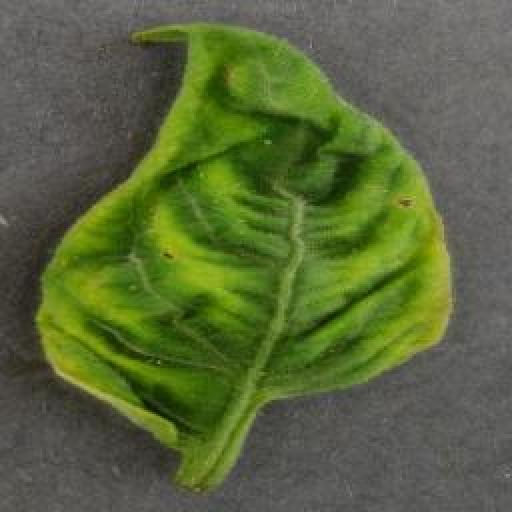Yellow Leaf Curl Virus: (37, 24, 452, 455)
